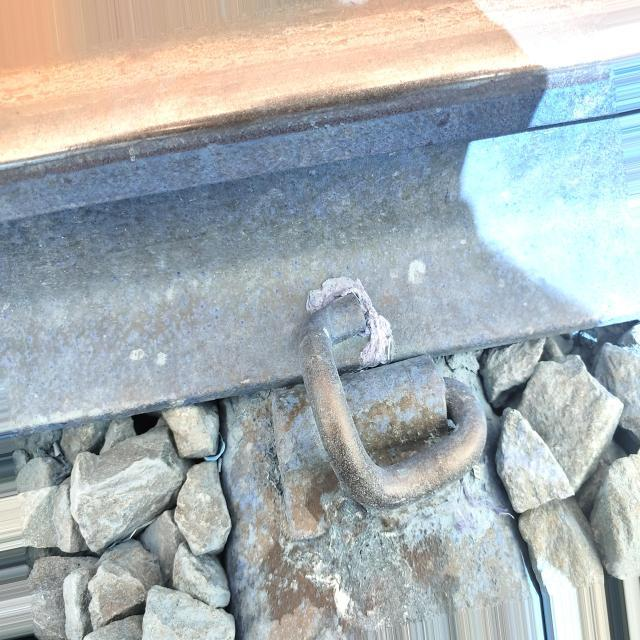Good Fasteners: (259, 286, 492, 569)
